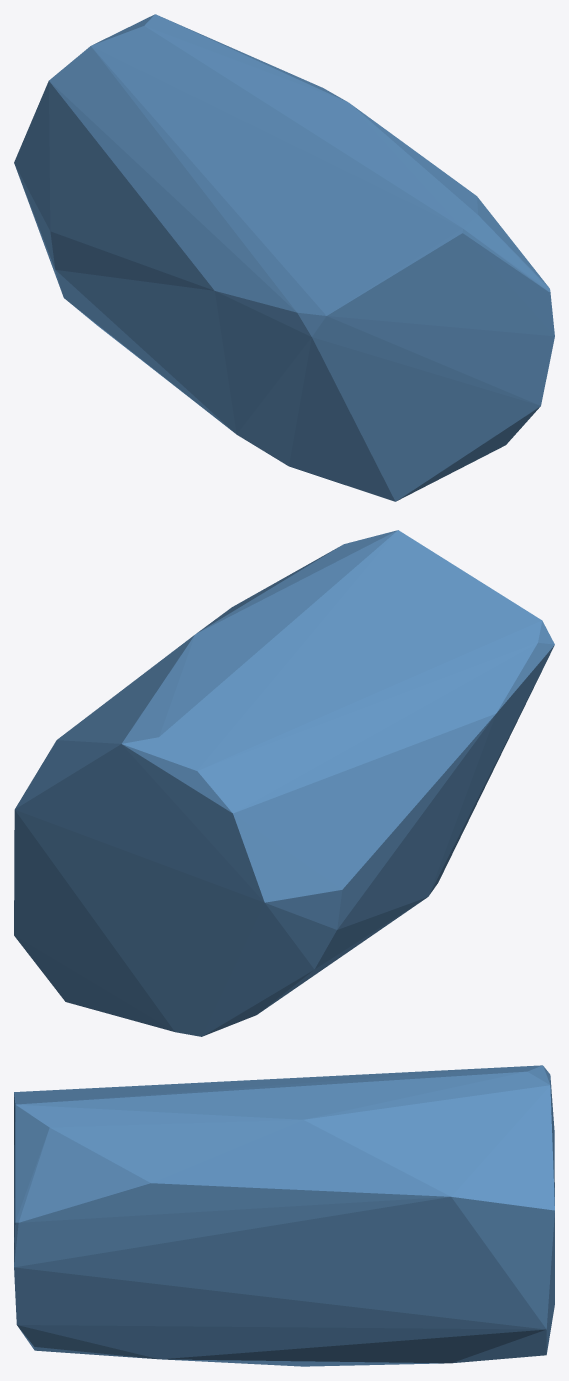
File: container_jar_glass_silver_a02.glb
The picture shows the model from 3 angles, top to bottom: view 1: azimuth 30°, elevation 25°; view 2: azimuth 150°, elevation 25°; view 3: azimuth 270°, elevation 25°; orthographic projection. The views are drawn at different scales.
Parts seen in each view (by area): view 1: geometry_0; view 2: geometry_0; view 3: geometry_0.
Boxes of the visible parts, bbox=[...] form: geometry_0: bbox=[14, 14, 554, 501]; geometry_0: bbox=[14, 530, 554, 1036]; geometry_0: bbox=[14, 1065, 554, 1366].
Bounding box in the file's own units: 0.2614 × 0.2691 × 0.4797.
